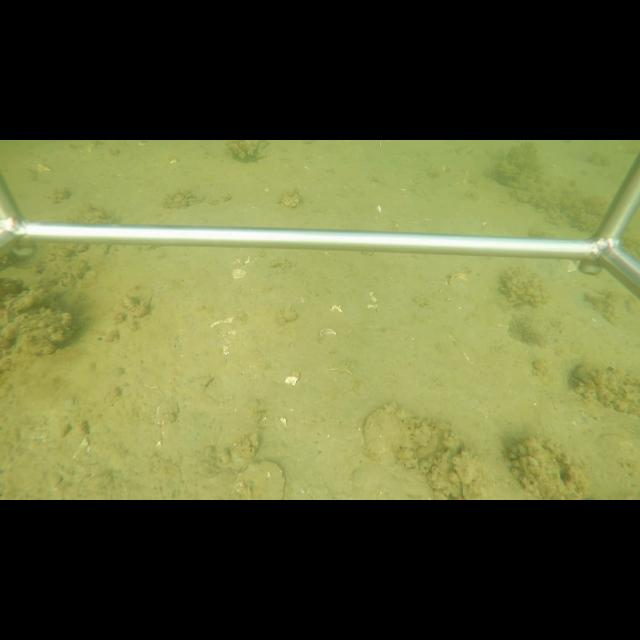Oyster-Closed: (363, 403, 443, 468), (233, 459, 287, 498)
